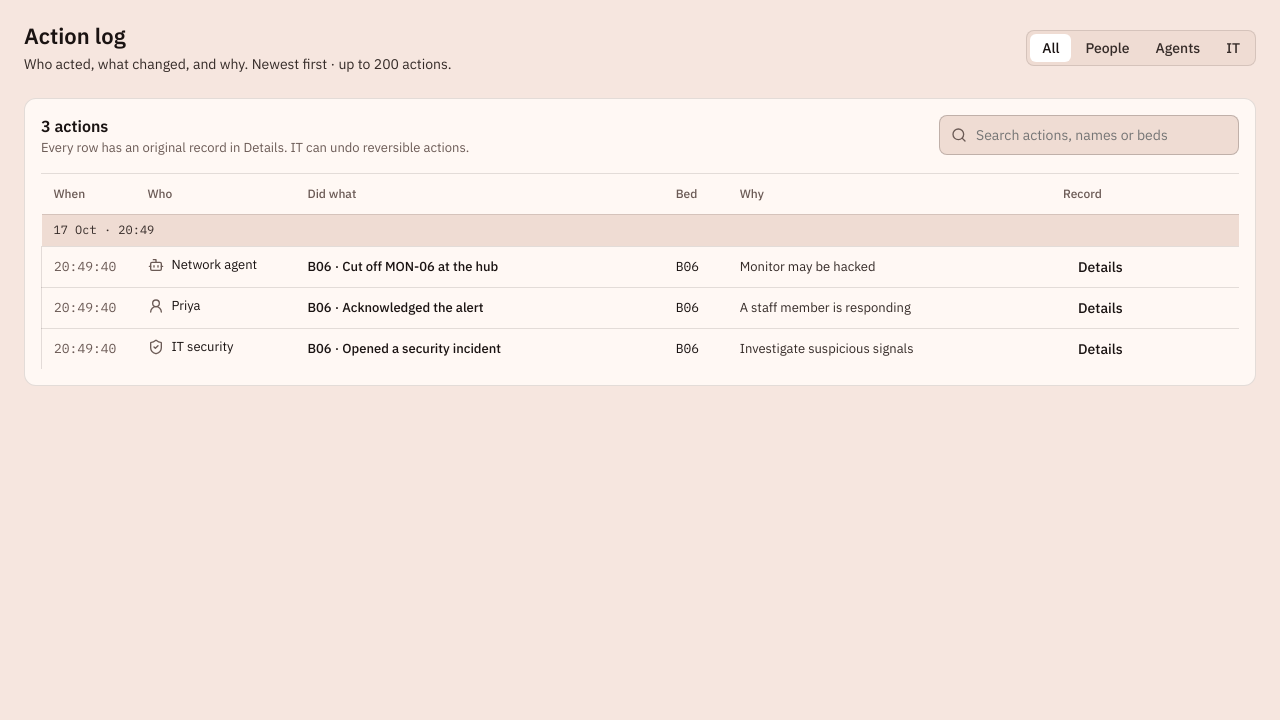
it: readable action log › keeps the raw record behind an explicit Details row
Check: the text "B06 · Cut off MON-06 at the hub" is shown, box x1=308 y1=258 x2=498 y2=274
Check: the text "disable_client" is not shown
Click the button "Details" in the row of "Network agent" at (1100, 266), box x1=1063 y1=248 x2=1138 y2=284
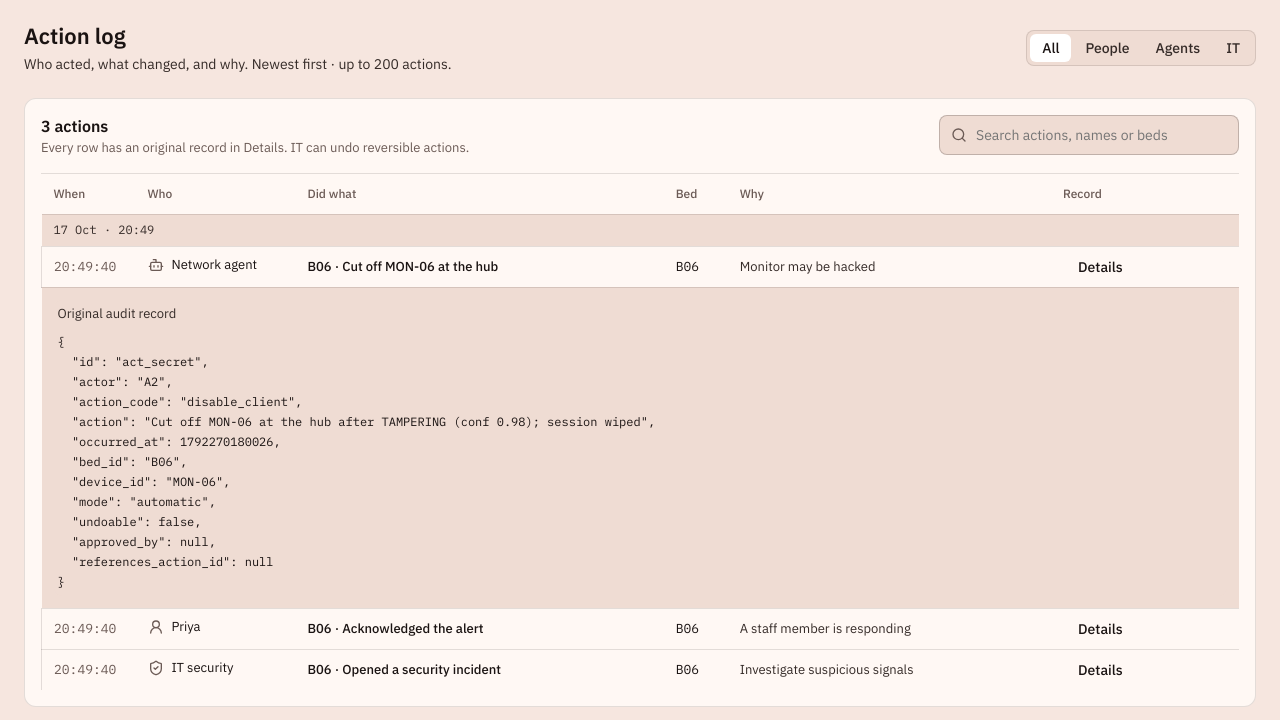
Check: the text "disable_client" shows "act_secret", box x1=58 y1=334 x2=655 y2=588
